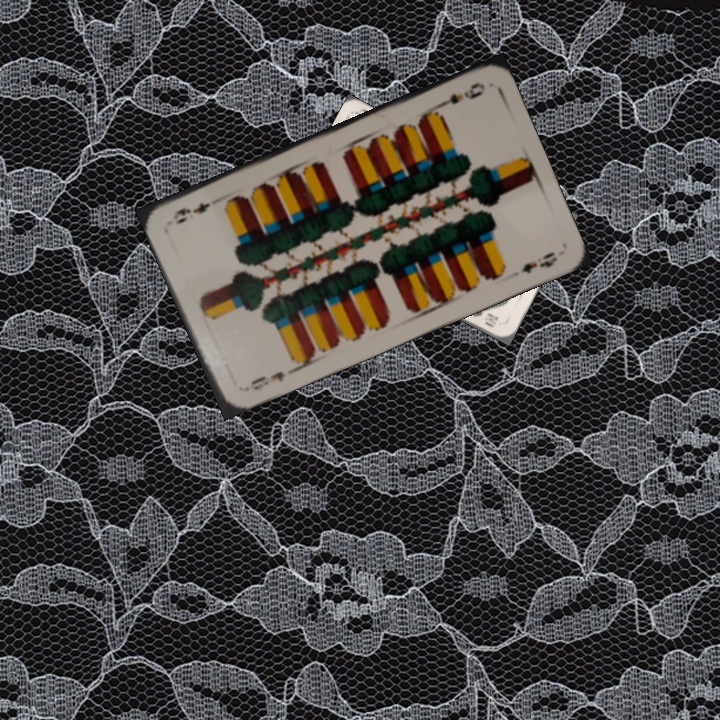E9: (432, 78, 488, 111), (246, 367, 287, 393)
